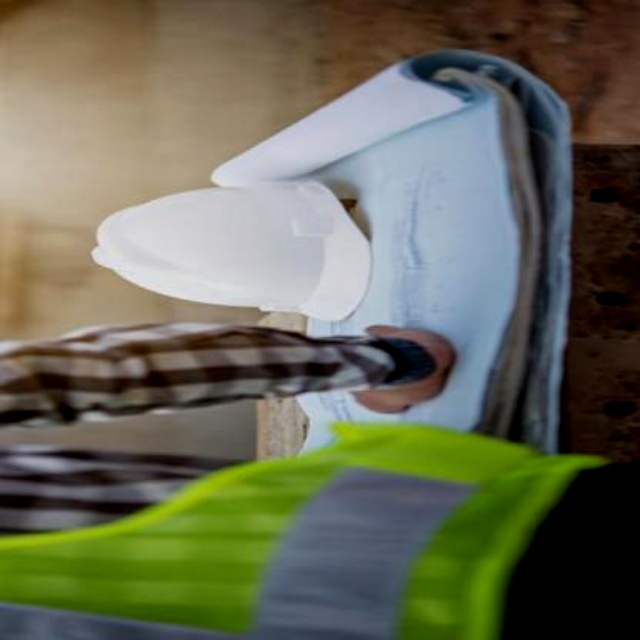vest-helm: (5, 423, 580, 639)
white-helm: (85, 172, 401, 327)
